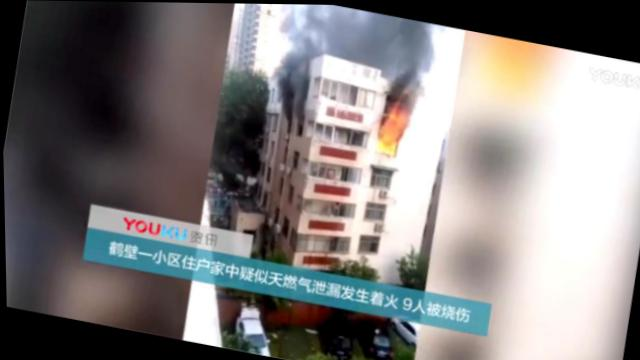fire: (375, 123, 400, 155), (383, 102, 407, 130)
